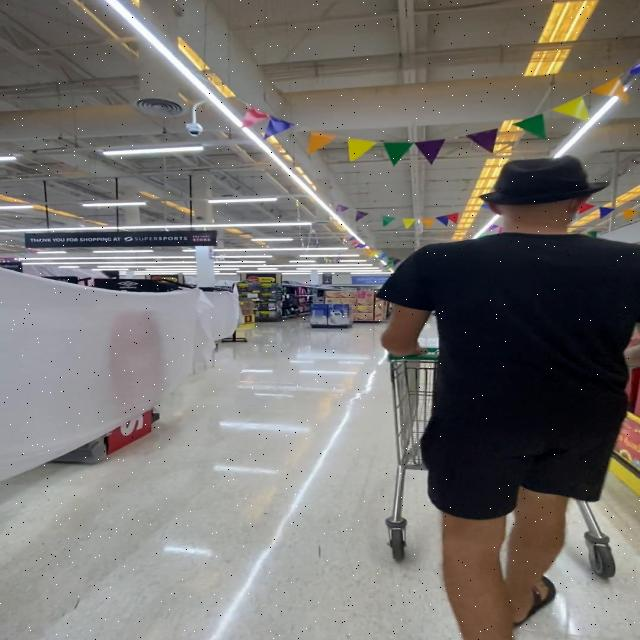hands: (382, 305, 429, 357)
person: (380, 156, 639, 640)
